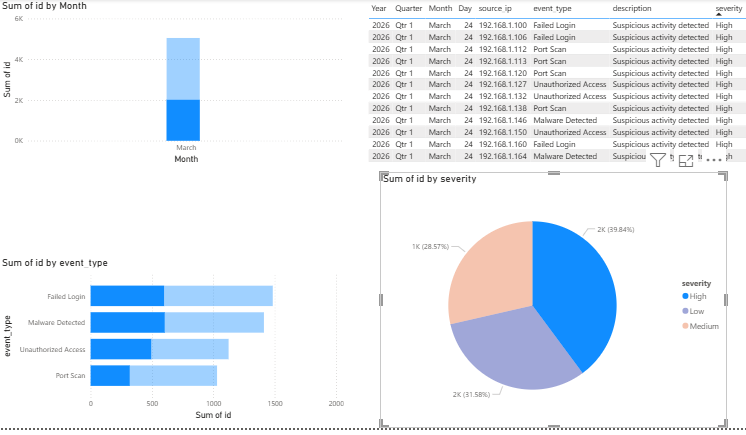

Layout of this report page (visuals, bound fields, positions):
{"tool":"powerbi","page":{"name":"Page 1","canvas":[1280,720],"ordinal":0},"visuals":[{"type":"barChart","fields":{"Category":["public security_logs.event_type"],"Y":["Sum(public security_logs.id)"]},"box":[0,431.1,584.2,279.5],"z":0},{"type":"ribbonChart","fields":{"Category":["public security_logs.timestamp.Variation.Date Hierarchy.Month","public security_logs.timestamp.Variation.Date Hierarchy.Day"],"Y":["Sum(public security_logs.id)"]},"box":[0,0,584.2,281.1],"z":1},{"type":"tableEx","fields":{"Values":["public security_logs.timestamp.Variation.Date Hierarchy.Year","public security_logs.timestamp.Variation.Date Hierarchy.Quarter","public security_logs.timestamp.Variation.Date Hierarchy.Month","public security_logs.timestamp.Variation.Date Hierarchy.Day","public security_logs.source_ip","public security_logs.event_type","public security_logs.description","public security_logs.severity"]},"box":[614.2,0,666.3,281.1],"z":2},{"type":"pieChart","fields":{"Category":["public security_logs.severity"],"Y":["Sum(public security_logs.id)"]},"box":[639.5,290.5,584.2,429.5],"z":3}]}

Visuals, with their boxes on the page's 1280x720 design canvas (x1, y1, x2, y2). These are canvas units, not pixel positions in the 746x435 screenshot, which may show the page scaled, cropped or inside an application window:
barChart - public security_logs.event_type x Sum(public security_logs.id): detection(0, 431, 584, 711)
ribbonChart - public security_logs.timestamp.Variation.Date Hierarchy.Month x public security_logs.timestamp.Variation.Date Hierarchy.Day: detection(0, 0, 584, 281)
tableEx - public security_logs.timestamp.Variation.Date Hierarchy.Year x public security_logs.timestamp.Variation.Date Hierarchy.Quarter: detection(614, 0, 1280, 281)
pieChart - public security_logs.severity x Sum(public security_logs.id): detection(640, 290, 1224, 720)
